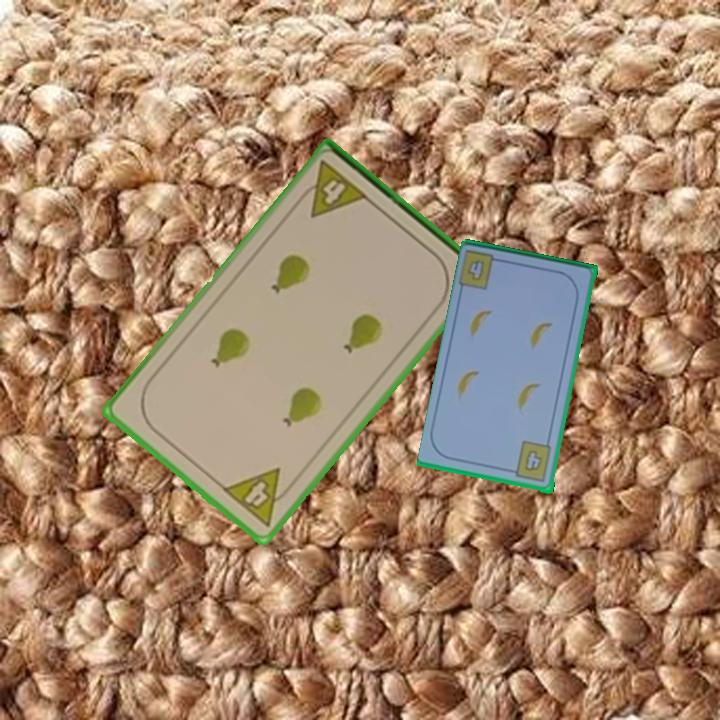4b: (457, 247, 507, 293), (507, 438, 555, 485)
4p: (218, 464, 299, 530), (293, 157, 371, 221)
